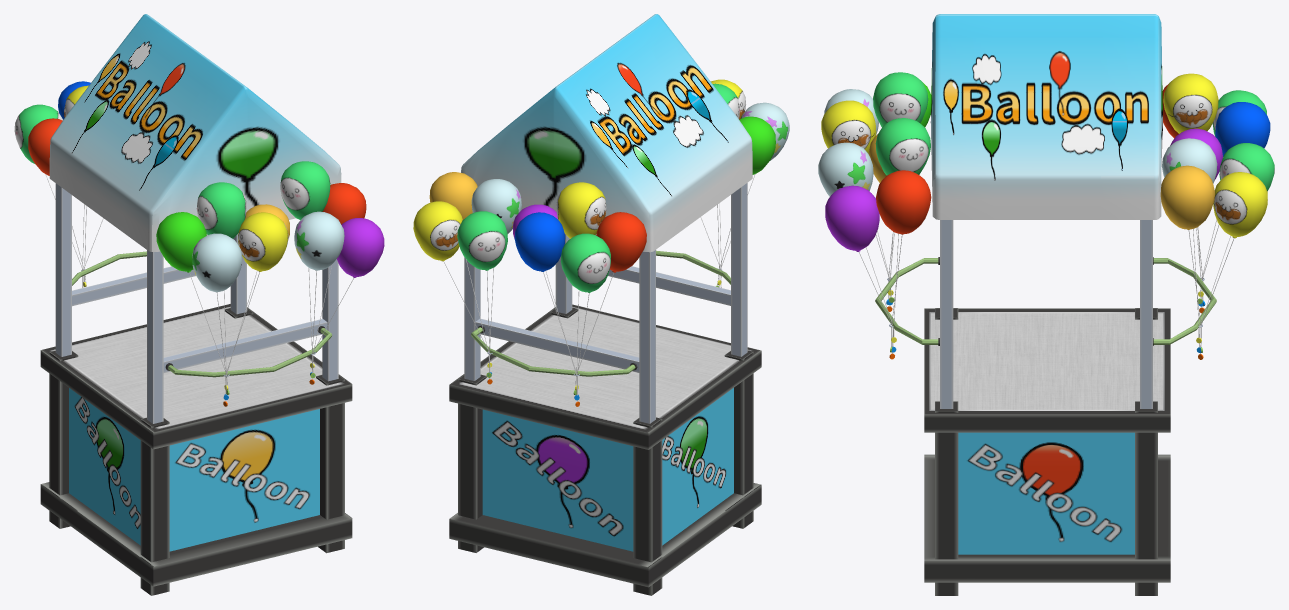
The model's file is BalloonStall.fbx.
3 views of the same model, side by side, from view 1: azimuth 30°, elevation 25°; view 2: azimuth 150°, elevation 25°; view 3: azimuth 270°, elevation 25° (orthographic). The views are drawn at different scales.
Parts seen in each view (by area): view 1: Platform, Roof, PillarA, BalloonSetA, PillarB, BalloonSetB, BalloonSetC; view 2: Platform, Roof, PillarA, BalloonSetC, PillarB, BalloonSetD, BalloonSetA; view 3: Platform, Roof, BalloonSetB, BalloonSetD, PillarB, PillarA, BalloonSetC, BalloonSetA.
Part boxes in pixels (x1,y1,x2,y2): Platform: [40, 304, 352, 586]; Roof: [49, 14, 341, 251]; PillarA: [55, 183, 338, 423]; BalloonSetA: [156, 182, 289, 406]; PillarB: [49, 308, 344, 595]; BalloonSetB: [280, 161, 384, 384]; BalloonSetC: [14, 81, 103, 287]; Platform: [449, 304, 761, 587]; Roof: [461, 14, 752, 252]; PillarA: [464, 183, 747, 423]; BalloonSetC: [513, 182, 646, 406]; PillarB: [458, 307, 753, 595]; BalloonSetD: [413, 172, 521, 384]; BalloonSetA: [700, 79, 789, 287]; Platform: [924, 308, 1170, 582]; Roof: [930, 14, 1162, 219]; BalloonSetB: [818, 118, 931, 359]; BalloonSetD: [1160, 138, 1274, 359]; PillarB: [935, 308, 1157, 595]; PillarA: [875, 220, 1216, 408]; BalloonSetC: [1162, 73, 1270, 313]; BalloonSetA: [821, 72, 931, 311].
Bounding box in the file's own units: 1315 × 2895 × 2262.
